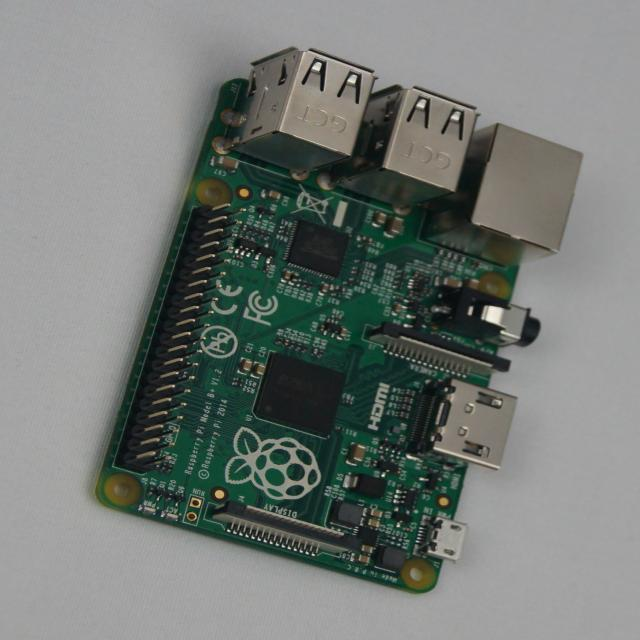Raspberry Pi 1 B-: (97, 49, 581, 593)
